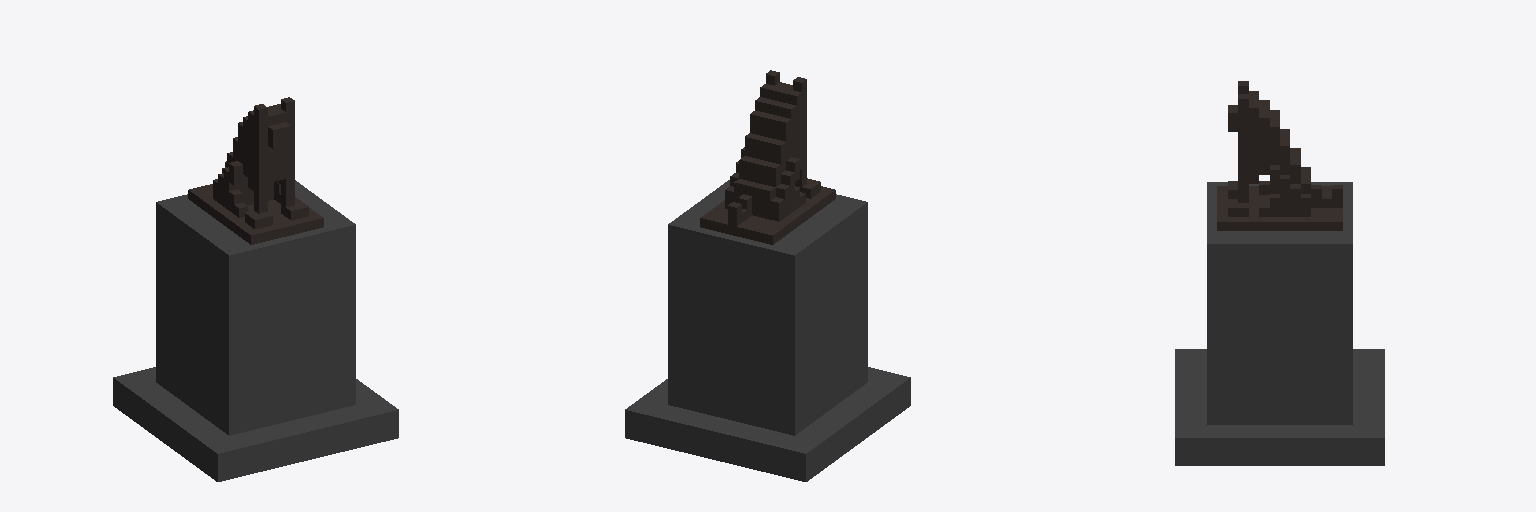
3 renders of one model, left to right at view 1: azimuth 30°, elevation 25°; view 2: azimuth 150°, elevation 25°; view 3: azimuth 270°, elevation 25°, orthographic.
Visible parts, largest first — view 1: object 1; view 2: object 1; view 3: object 1.
Part boxes in pixels (bbox=[...]): object 1: bbox=[113, 97, 398, 481]; object 1: bbox=[625, 70, 910, 481]; object 1: bbox=[1175, 81, 1384, 465].
Bounding box in the file's own units: 2 × 3.5 × 2.
Materials: 1 (1 with a texture image).